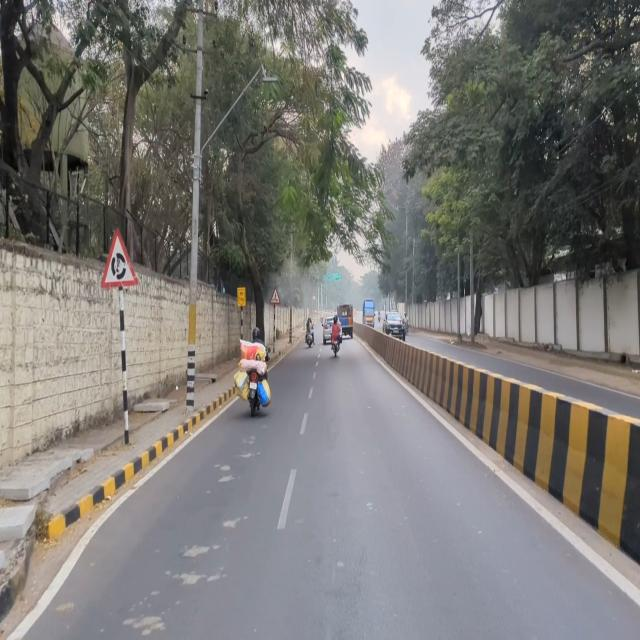bien_cam: (100, 225, 138, 288), (270, 286, 281, 305)
